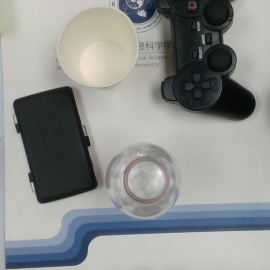bottle: (106, 143, 182, 218)
cup: (56, 7, 139, 86)
remote: (155, 1, 256, 120)
